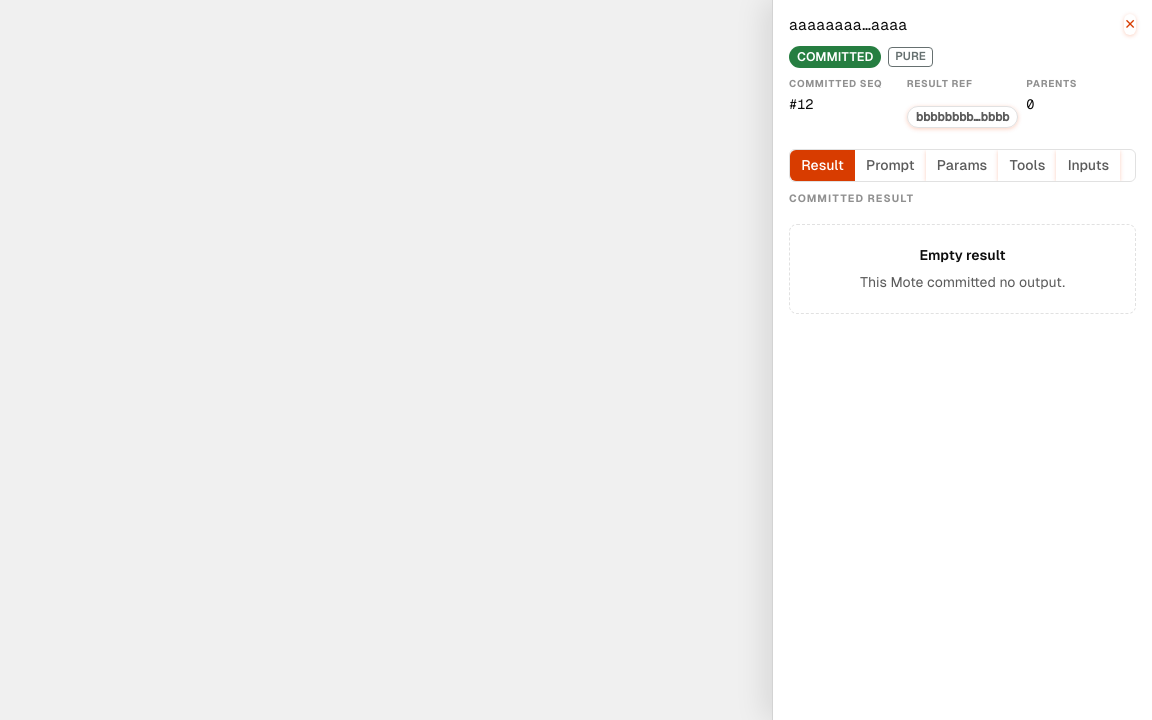
it: NodeDetailDrawer › a committed-but-blobless def answers the honest 'not retained' empty
Click the button with test id "inspector-pane-prompt" at (890, 165), box [855, 150, 926, 181]
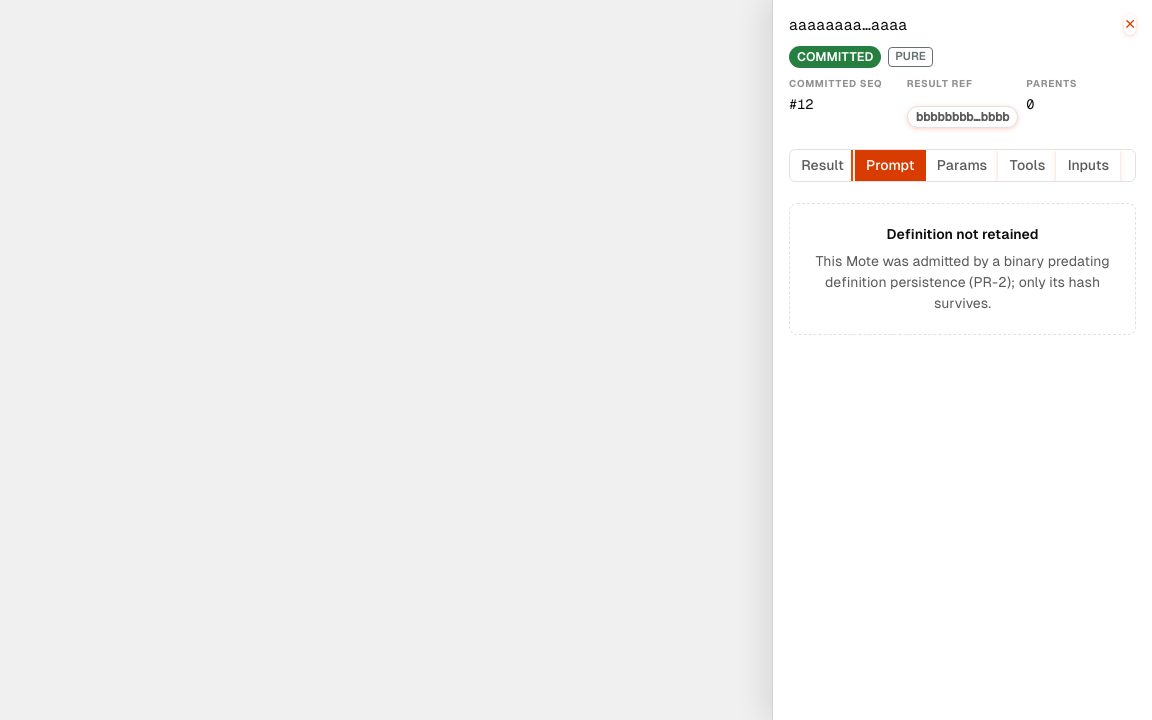
Check: the text "Definition not retained" is shown, box [886, 226, 1038, 242]
